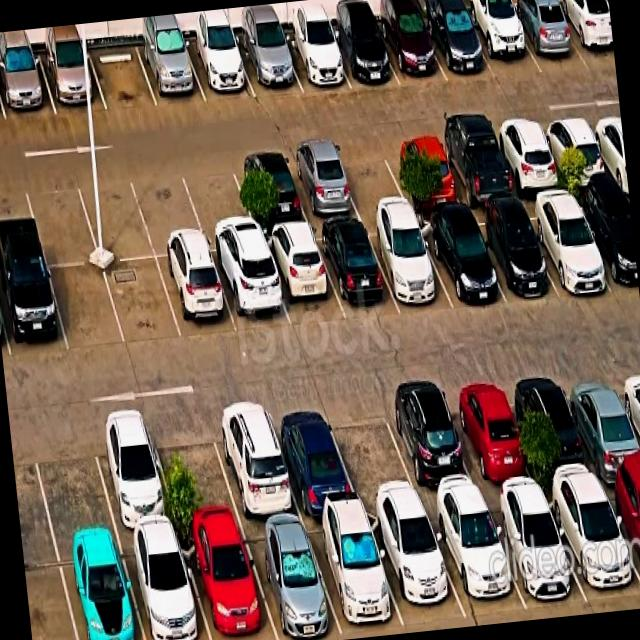car: (303, 512, 405, 639), (379, 383, 482, 505), (240, 520, 342, 640), (543, 483, 640, 609), (484, 493, 587, 610), (425, 499, 526, 617), (365, 508, 466, 625), (441, 376, 538, 497), (207, 399, 301, 523), (178, 525, 277, 640), (265, 398, 359, 515), (509, 370, 601, 489), (87, 414, 178, 534), (119, 531, 210, 640), (559, 366, 640, 482), (520, 195, 613, 294), (56, 537, 143, 640), (465, 207, 557, 302), (415, 213, 506, 309), (260, 228, 345, 328), (313, 222, 399, 319), (364, 218, 453, 310), (156, 253, 237, 339), (572, 191, 639, 293), (210, 248, 291, 332), (0, 263, 68, 359), (434, 128, 517, 206), (230, 151, 309, 230), (283, 146, 361, 222), (383, 135, 463, 207), (463, 7, 541, 80), (506, 4, 588, 73), (490, 121, 566, 195), (538, 116, 613, 188), (375, 13, 447, 86), (420, 11, 494, 81), (326, 21, 399, 88), (136, 39, 205, 106), (183, 38, 255, 102), (38, 48, 106, 114), (279, 29, 350, 91), (235, 34, 302, 96), (554, 0, 615, 67), (601, 476, 640, 579), (0, 53, 56, 120)
free: (323, 392, 421, 507), (147, 411, 241, 530), (28, 419, 116, 543), (179, 157, 260, 252), (74, 169, 155, 261), (130, 164, 208, 256), (22, 173, 99, 265), (103, 257, 182, 346), (48, 264, 125, 352), (331, 141, 409, 215), (87, 43, 157, 109)
